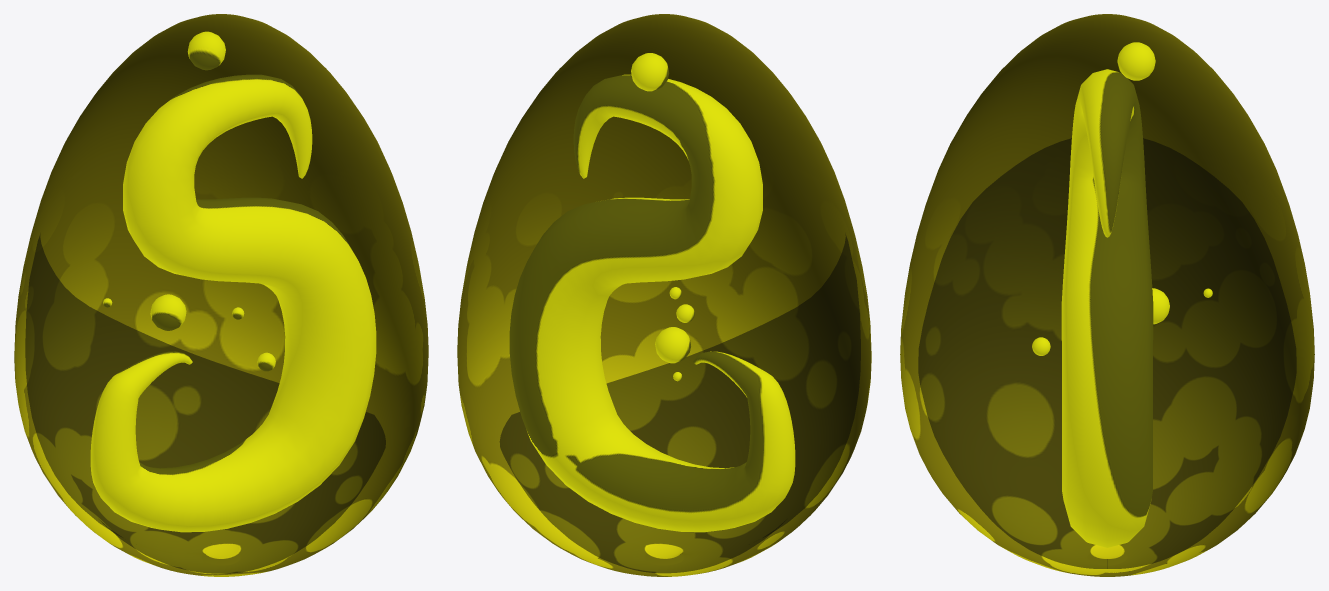
File: dofus_emeraude.glb
3 views of the same model, side by side, from view 1: azimuth 30°, elevation 25°; view 2: azimuth 150°, elevation 25°; view 3: azimuth 270°, elevation 25° (orthographic).
Parts seen in each view (by area): view 1: Object_2, Object_3, Object_4; view 2: Object_2, Object_3, Object_4; view 3: Object_2, Object_4, Object_3.
Boxes of the visible parts, bbox=[...] form: Object_2: bbox=[14, 14, 428, 576]; Object_3: bbox=[90, 31, 376, 532]; Object_4: bbox=[25, 234, 385, 573]; Object_2: bbox=[457, 14, 871, 576]; Object_3: bbox=[509, 53, 795, 532]; Object_4: bbox=[499, 234, 860, 573]; Object_2: bbox=[900, 14, 1314, 576]; Object_4: bbox=[918, 138, 1296, 568]; Object_3: bbox=[1032, 42, 1212, 547].
Size of the model in its own units: 1.65 by 2.34 by 1.65.
Materials: 3 (2 with a texture image).
